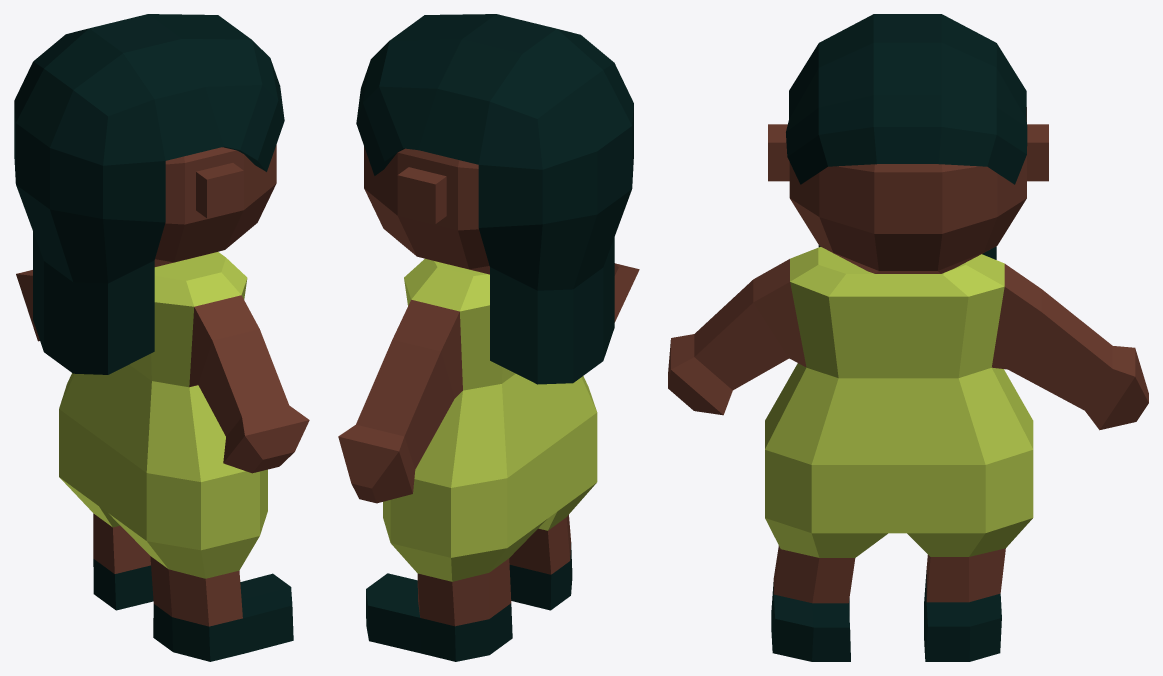
The model's file is doll-green.fbx.
3 renders of one model, left to right at view 1: azimuth 30°, elevation 25°; view 2: azimuth 150°, elevation 25°; view 3: azimuth 270°, elevation 25°, orthographic. The views are drawn at different scales.
Parts seen in each view (by area): view 1: girl.002; view 2: girl.002; view 3: girl.002.
Boxes of the visible parts, left/top/right/bottom form: girl.002: left=14, top=14, right=309, bottom=661; girl.002: left=338, top=14, right=639, bottom=661; girl.002: left=668, top=14, right=1148, bottom=661.
Bounding box in the file's own units: 145 × 346 × 259.
